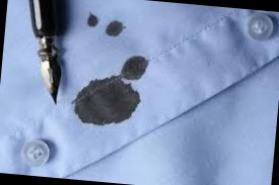ink: (73, 72, 140, 128), (123, 56, 150, 76), (106, 21, 123, 37), (87, 14, 98, 27)
